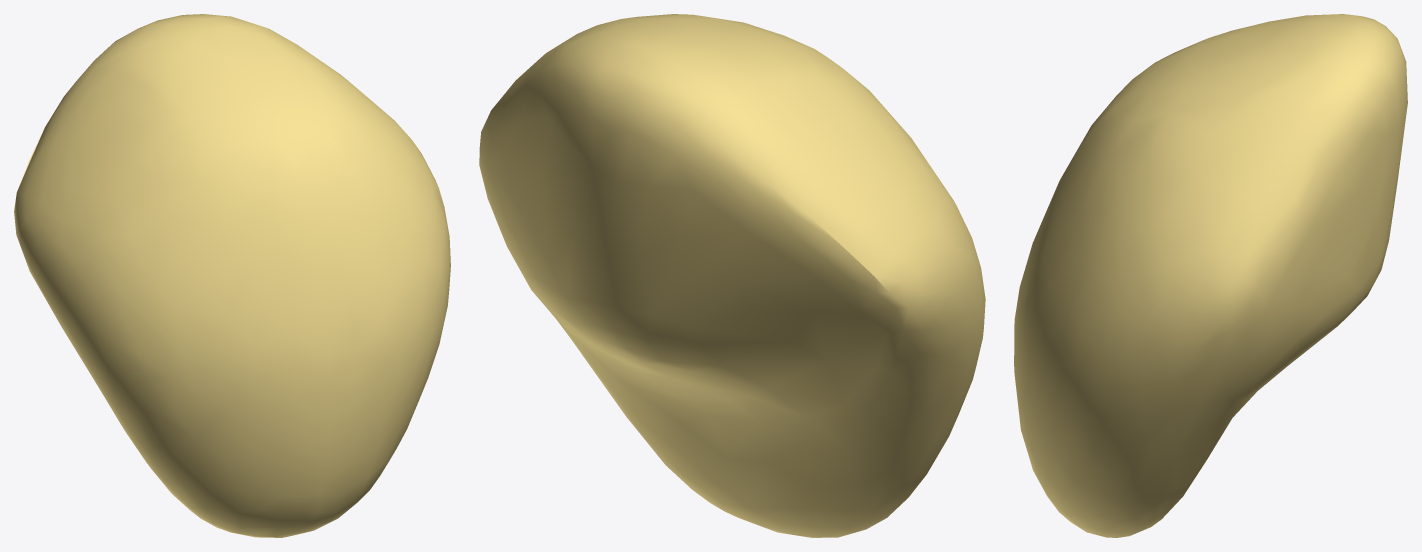
3 views of the same model, side by side, from view 1: azimuth 30°, elevation 25°; view 2: azimuth 150°, elevation 25°; view 3: azimuth 270°, elevation 25° (orthographic). The views are drawn at different scales.
Parts seen in each view (by area): view 1: ZA_47dfd96f4ad44715; view 2: ZA_47dfd96f4ad44715; view 3: ZA_47dfd96f4ad44715.
Part boxes in pixels (x1,y1,x2,y2): ZA_47dfd96f4ad44715: (14,14,450,537); ZA_47dfd96f4ad44715: (479,14,985,537); ZA_47dfd96f4ad44715: (1014,14,1407,537).
Size of the model in its own units: 0.0105 by 0.0118 by 0.00854.
